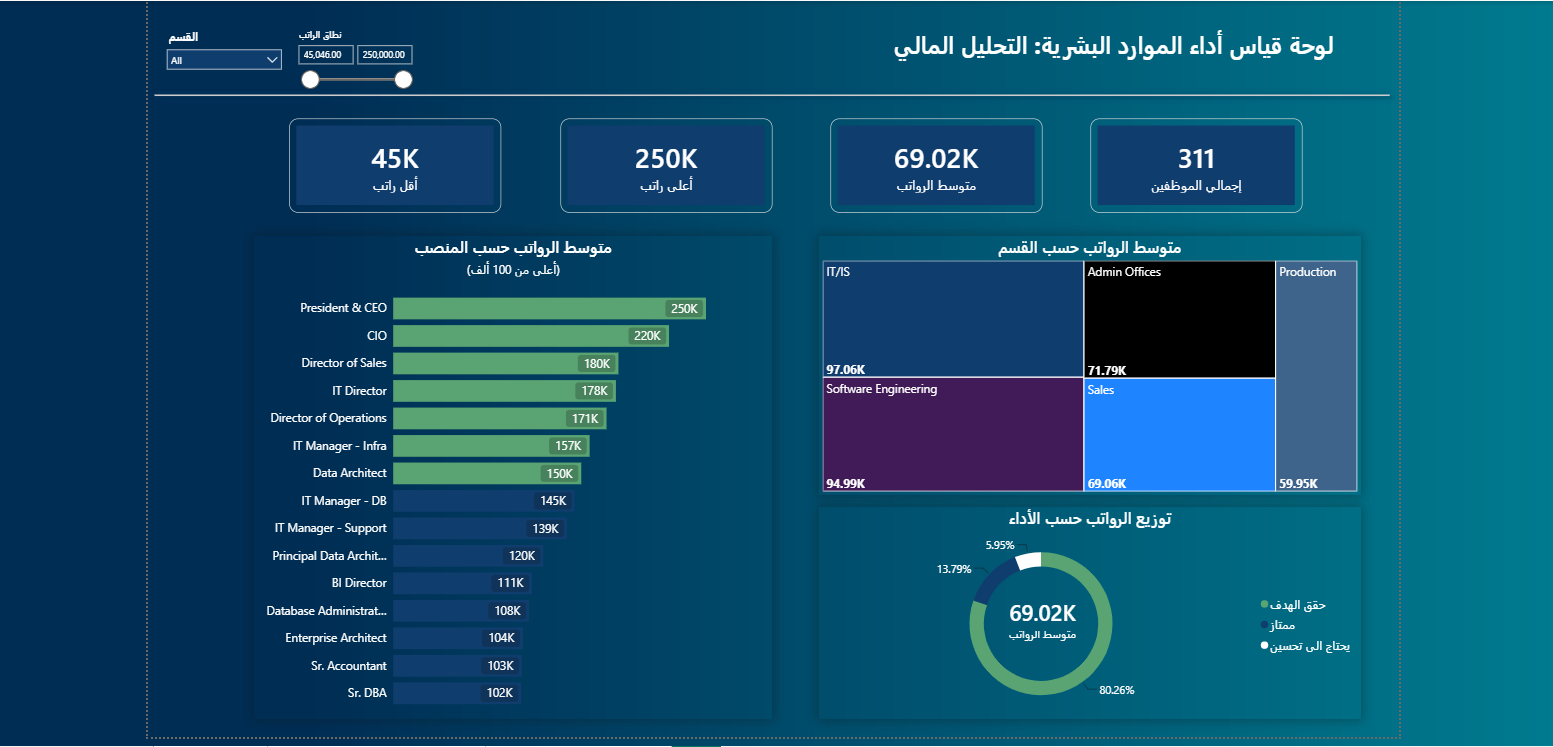

The dashboard page shown, as its layout file describes it:
{"tool":"powerbi","page":{"name":"التحليل المالي للرواتب","canvas":[1700,1000],"ordinal":2},"visuals":[{"type":"cardVisual","fields":{"Data":["All-Measuers.Total_Employees"]},"box":[1280,160,288,128],"z":0},{"type":"textbox","box":[944,32,736,80],"z":1000},{"type":"slicer","fields":{"Values":["Departments.DepartmentName"]},"box":[16,32,176,80],"z":2000},{"type":"shape","box":[0,112,1696,32],"z":3000},{"type":"cardVisual","fields":{"Data":["Avg(Employees.Salary)"]},"box":[928,160,288,128],"z":4000},{"type":"slicer","title":"السنة","fields":{"Values":["Employees.Salary"]},"box":[192,32,176,96],"z":5000},{"type":"cardVisual","fields":{"Data":["All-Measuers.Maximum Salary"]},"box":[560,160,288,128],"z":6000},{"type":"cardVisual","fields":{"Data":["All-Measuers.Minamum Salary"]},"box":[192,160,288,128],"z":7000},{"type":"clusteredBarChart","title":"متوسط الرواتب حسب المنصب","fields":{"Category":["Positions.PositionTitle"],"Y":["Avg(Employees.Salary)"]},"box":[144,320,704,656],"z":8000},{"type":"treemap","title":"متوسط الرواتب حسب القسم","fields":{"Group":["Departments.DepartmentName"],"Values":["Avg(Employees.Salary)"]},"box":[912,320,736,352],"z":9000},{"type":"donutChart","title":"توزيع الرواتب حسب الأداء","fields":{"Category":["Performance_Dim.PerformanceScore (groups)"],"Y":["Sum(Employees.Salary)"]},"box":[912,688,736,288],"z":10000},{"type":"cardVisual","fields":{"Data":["Avg(Employees.Salary)"]},"box":[1120,784,192,112],"z":10500}]}

Visuals, with their boxes on the page's 1700x1000 design canvas (x1, y1, x2, y2). These are canvas units, not pixel positions in the 1553x747 screenshot, which may show the page scaled, cropped or inside an application window:
cardVisual - All-Measuers.Total_Employees: 1280 160 1568 288
textbox: 944 32 1680 112
slicer - Departments.DepartmentName: 16 32 192 112
shape: 0 112 1696 144
cardVisual - Avg(Employees.Salary): 928 160 1216 288
"السنة" slicer: 192 32 368 128
cardVisual - All-Measuers.Maximum Salary: 560 160 848 288
cardVisual - All-Measuers.Minamum Salary: 192 160 480 288
"متوسط الرواتب حسب المنصب" clusteredBarChart: 144 320 848 976
"متوسط الرواتب حسب القسم" treemap: 912 320 1648 672
"توزيع الرواتب حسب الأداء" donutChart: 912 688 1648 976
cardVisual - Avg(Employees.Salary): 1120 784 1312 896
